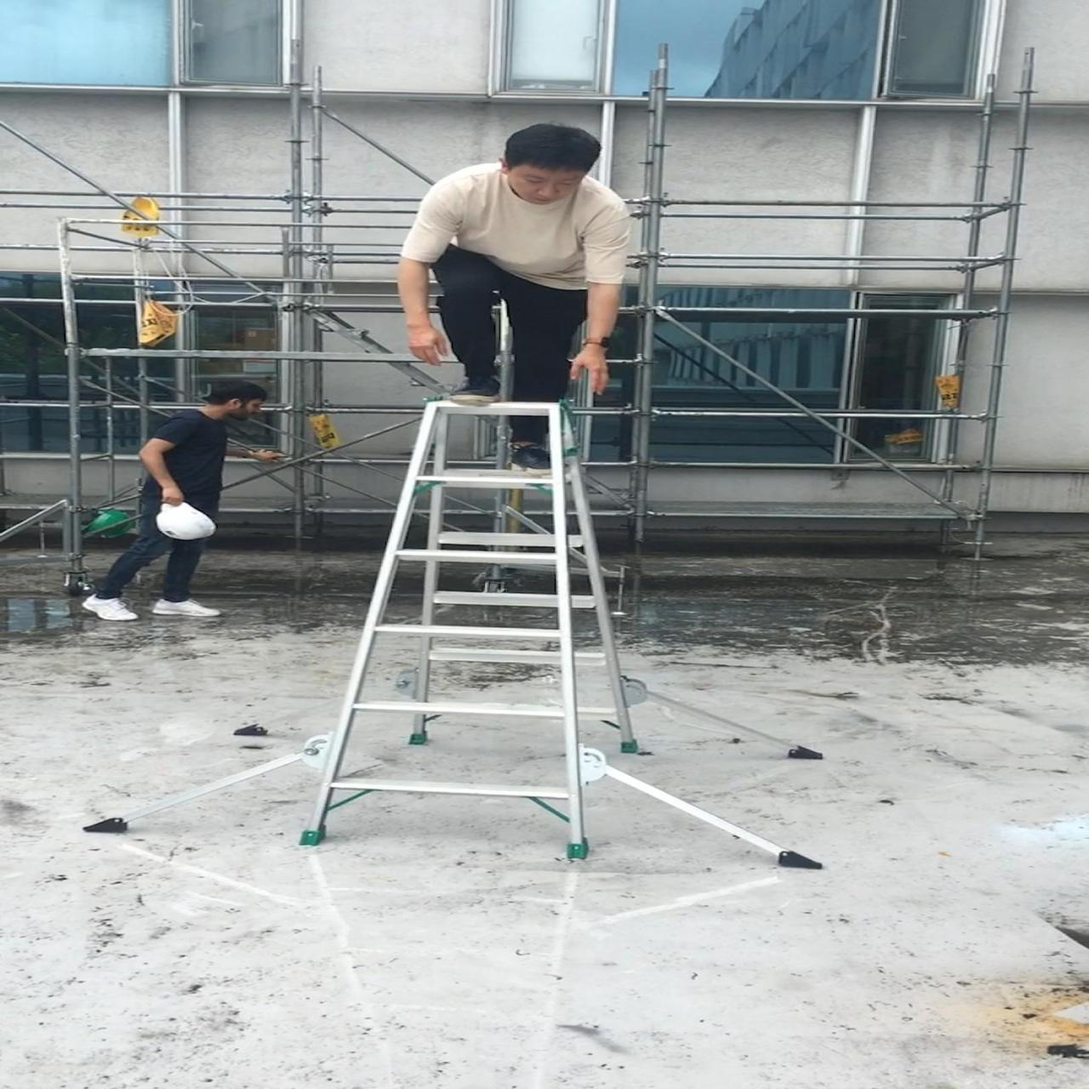NO_Safety_Vest: (445, 161, 601, 291), (150, 413, 225, 509)
Person: (394, 121, 632, 476), (78, 380, 287, 621)
